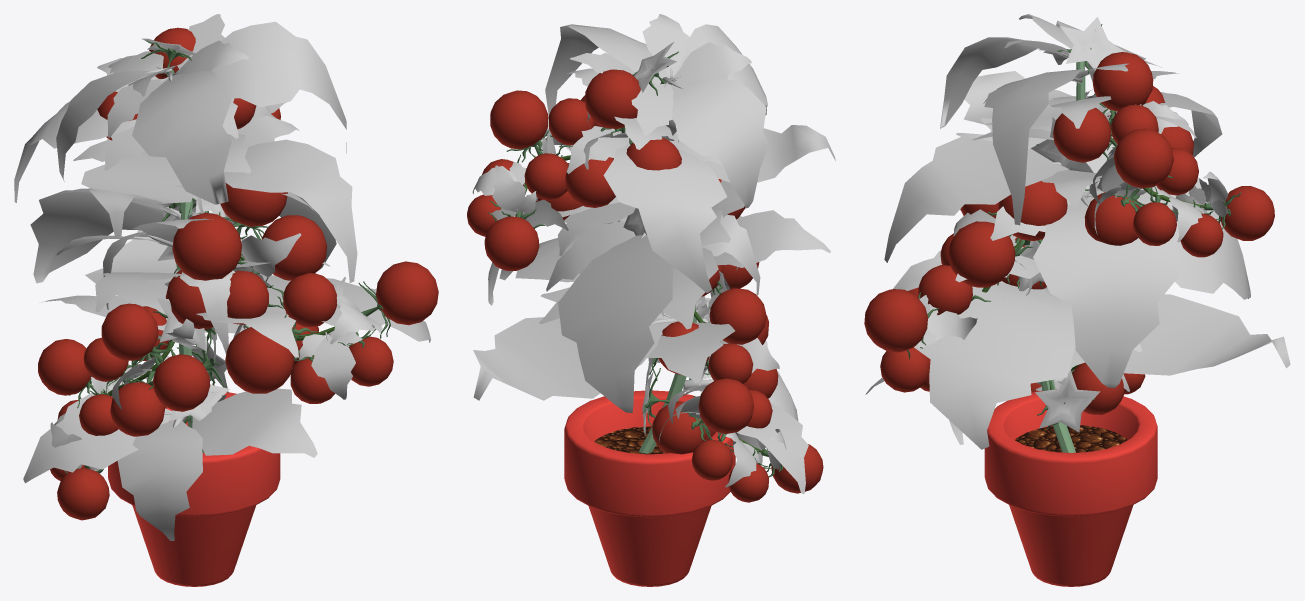
File: TomatPhasefinal.fbx
3 renders of one model, left to right at view 1: azimuth 30°, elevation 25°; view 2: azimuth 150°, elevation 25°; view 3: azimuth 270°, elevation 25°, orthographic.
Visible parts, largest first — view 1: TomatPhase6, RootswithTomatoes.010, RootswithTomatoes.021, RootswithTomatoes.016, RootswithTomatoes.018, RootswithTomatoes.031, RootswithTomatoes.020, RootswithTomatoes.025, RootswithTomatoes.028, RootswithTomatoes.069, RootswithTomatoes.030, RootswithTomatoes.026 (+9 smaller); view 2: TomatPhase6, RootswithTomatoes.004, RootswithTomatoes.007, RootswithTomatoes.038, RootswithTomatoes.041, RootswithTomatoes.036, RootswithTomatoes.028, RootswithTomatoes.031, RootswithTomatoes.022, RootswithTomatoes.040, RootswithTomatoes.039, RootswithTomatoes.033 (+9 smaller); view 3: TomatPhase6, RootswithTomatoes.004, RootswithTomatoes.020, RootswithTomatoes.016, RootswithTomatoes.038, RootswithTomatoes.041, RootswithTomatoes.036, RootswithTomatoes.034, RootswithTomatoes.032, RootswithTomatoes.015, RootswithTomatoes.069, RootswithTomatoes.010 (+7 smaller).
Boxes of the visible parts, x1,y1,x2,y2 form: TomatPhase6: (14, 14, 430, 586); RootswithTomatoes.010: (187, 195, 382, 399); RootswithTomatoes.021: (172, 211, 253, 280); RootswithTomatoes.016: (358, 261, 438, 338); RootswithTomatoes.018: (225, 314, 305, 393); RootswithTomatoes.031: (101, 303, 169, 367); RootswithTomatoes.020: (240, 215, 327, 281); RootswithTomatoes.025: (149, 342, 210, 411); RootswithTomatoes.028: (38, 339, 104, 408); RootswithTomatoes.069: (270, 273, 336, 337); RootswithTomatoes.030: (110, 367, 165, 436); RootswithTomatoes.026: (57, 465, 109, 520); TomatPhase6: (473, 14, 835, 586); RootswithTomatoes.004: (472, 119, 678, 230); RootswithTomatoes.007: (659, 276, 786, 487); RootswithTomatoes.038: (490, 90, 553, 162); RootswithTomatoes.041: (585, 69, 640, 134); RootswithTomatoes.036: (484, 209, 545, 270); RootswithTomatoes.028: (693, 378, 753, 437); RootswithTomatoes.031: (703, 288, 766, 344); RootswithTomatoes.022: (652, 401, 710, 454); RootswithTomatoes.040: (565, 157, 615, 207); RootswithTomatoes.039: (524, 150, 568, 200); RootswithTomatoes.033: (548, 98, 594, 154); TomatPhase6: (865, 14, 1290, 586); RootswithTomatoes.004: (1076, 89, 1228, 242); RootswithTomatoes.020: (948, 221, 1032, 287); RootswithTomatoes.016: (864, 289, 939, 359); RootswithTomatoes.038: (1113, 128, 1173, 199); RootswithTomatoes.041: (1093, 52, 1153, 123); RootswithTomatoes.036: (1203, 186, 1274, 240); RootswithTomatoes.034: (1053, 107, 1117, 162); RootswithTomatoes.032: (1084, 188, 1141, 245); RootswithTomatoes.015: (998, 180, 1067, 253); RootswithTomatoes.069: (918, 265, 990, 315); RootswithTomatoes.010: (917, 209, 1042, 347).
Size of the model in its own units: 187 by 270 by 193.
